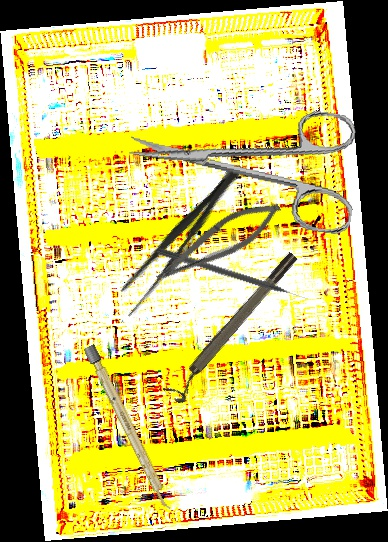Dressing Forceps: (109, 155, 252, 320)
Fixation Ring: (161, 249, 307, 406)
Iris Scissors: (121, 82, 367, 237)
Micro Scissor: (149, 188, 288, 298)
Pusher: (155, 246, 310, 305)
Scalpel Handle: (83, 344, 174, 512)
